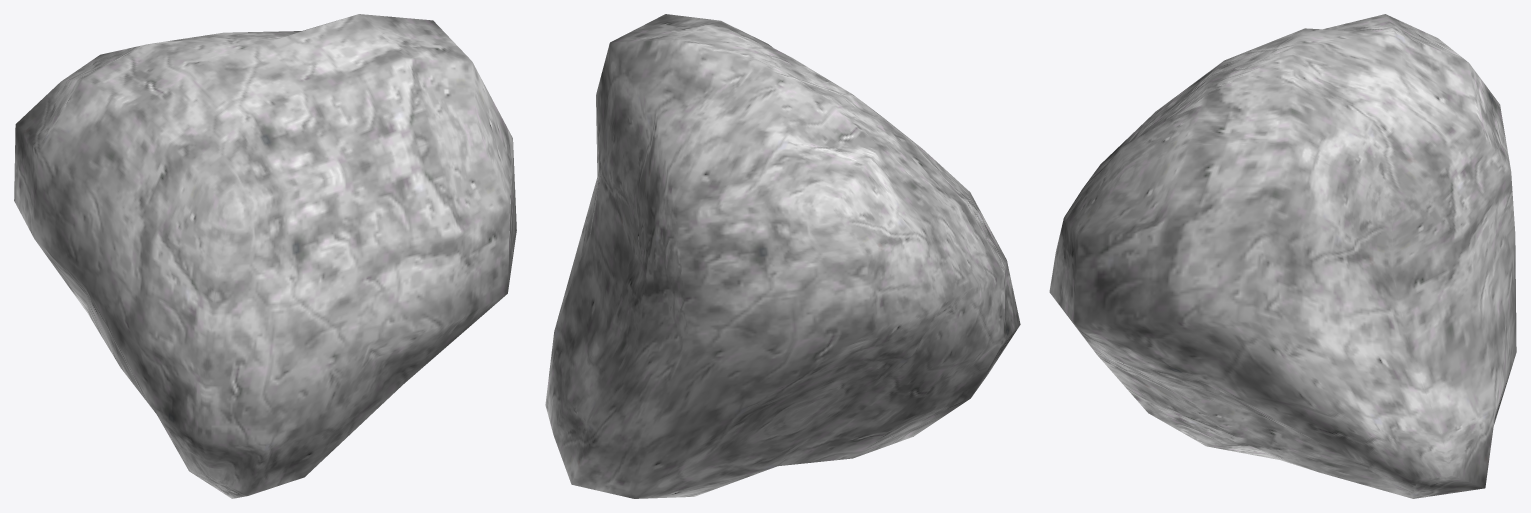
Rendered from INST_SWORDLIGHT_ROCKD.fbx.
3 views of the same model, side by side, from view 1: azimuth 30°, elevation 25°; view 2: azimuth 150°, elevation 25°; view 3: azimuth 270°, elevation 25° (orthographic). The views are drawn at different scales.
Visible parts, largest first — view 1: INST_SWORDLIGHT_ROCKD; view 2: INST_SWORDLIGHT_ROCKD; view 3: INST_SWORDLIGHT_ROCKD.
Boxes of the visible parts, x1,y1,x2,y2 form: INST_SWORDLIGHT_ROCKD: (14,14,516,498); INST_SWORDLIGHT_ROCKD: (545,14,1020,498); INST_SWORDLIGHT_ROCKD: (1049,14,1516,498).
Bounding box in the file's own units: 20134 × 20134 × 20134.
1 material, 1 textured.
